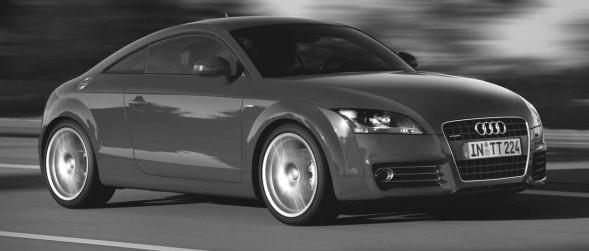car: (38, 15, 558, 229)
